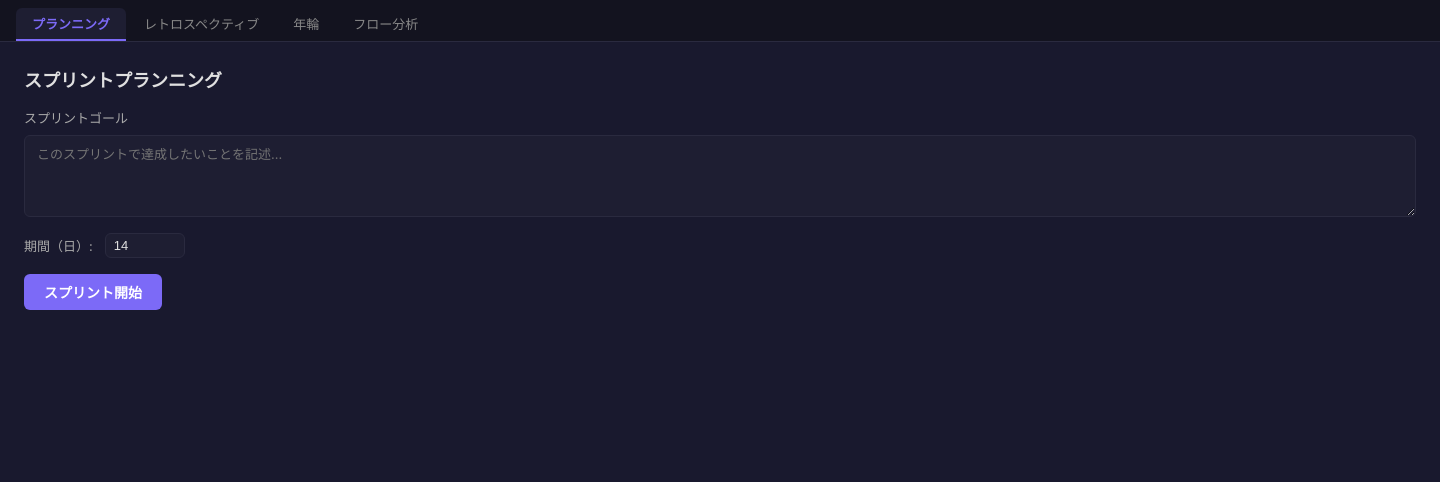
Scenario: SprintScreen › レトロスペクティブ タブに切り替えできる
This screenshot has width=1440, height=482.
Click the button "レトロスペクティブ" at (202,24), box [128,8,275,41]
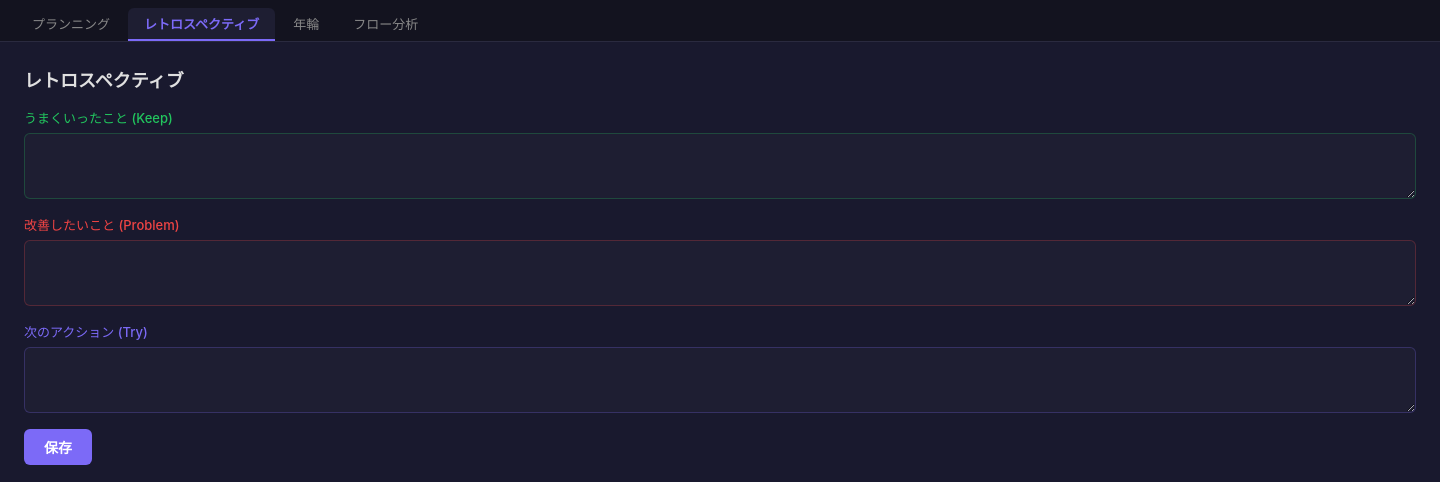
Check: the text "うまくいったこと (Keep)" is shown, box [24,110,173,126]
Check: the text "改善したいこと (Problem)" is shown, box [24,217,180,233]
Check: the text "次のアクション (Try)" is shown, box [24,324,148,340]
